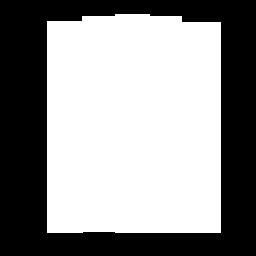person: (178, 22, 220, 232), (82, 16, 117, 231), (115, 14, 149, 232), (47, 21, 82, 232), (147, 16, 181, 232)
